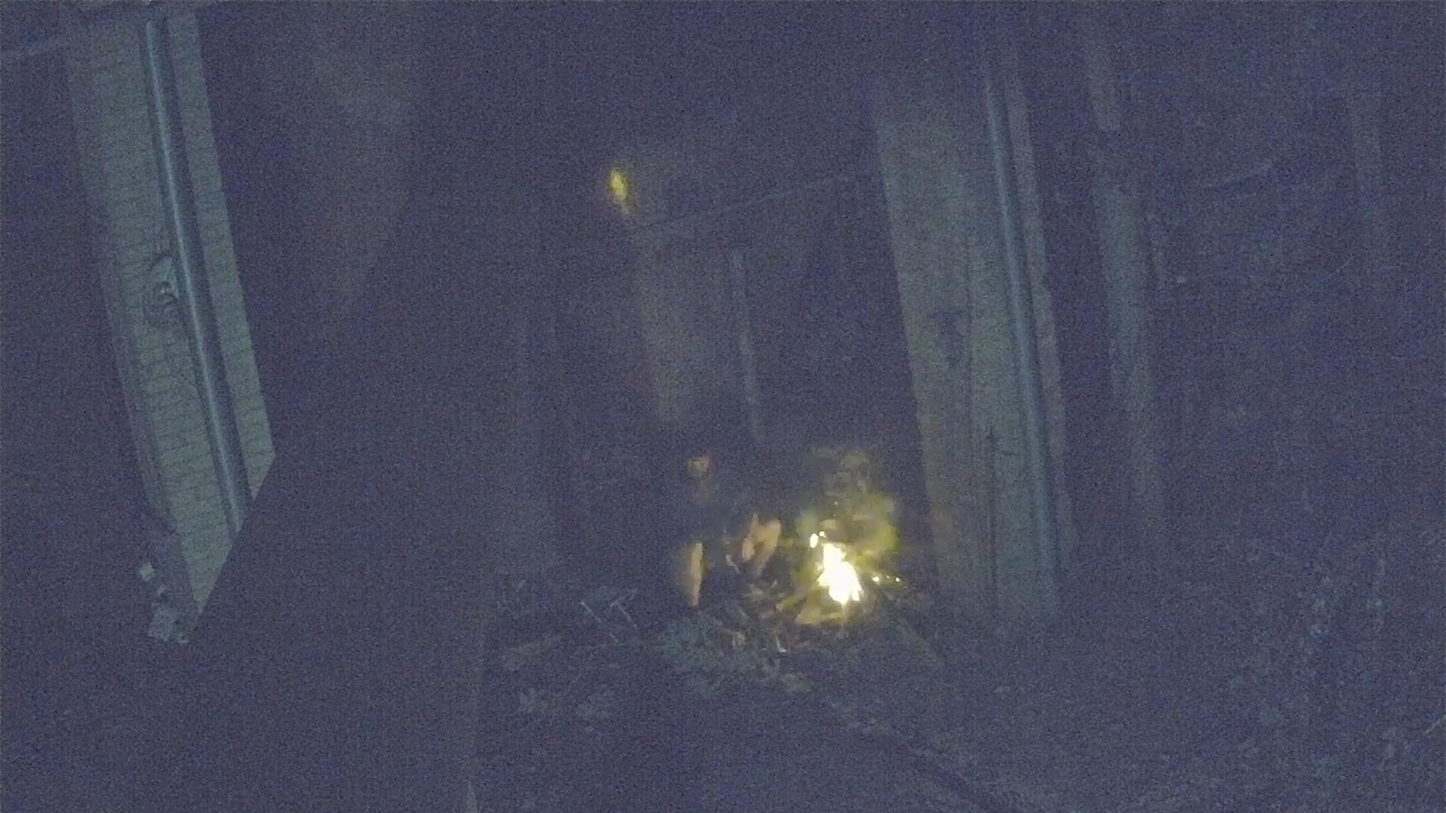fire: (817, 542, 862, 605)
